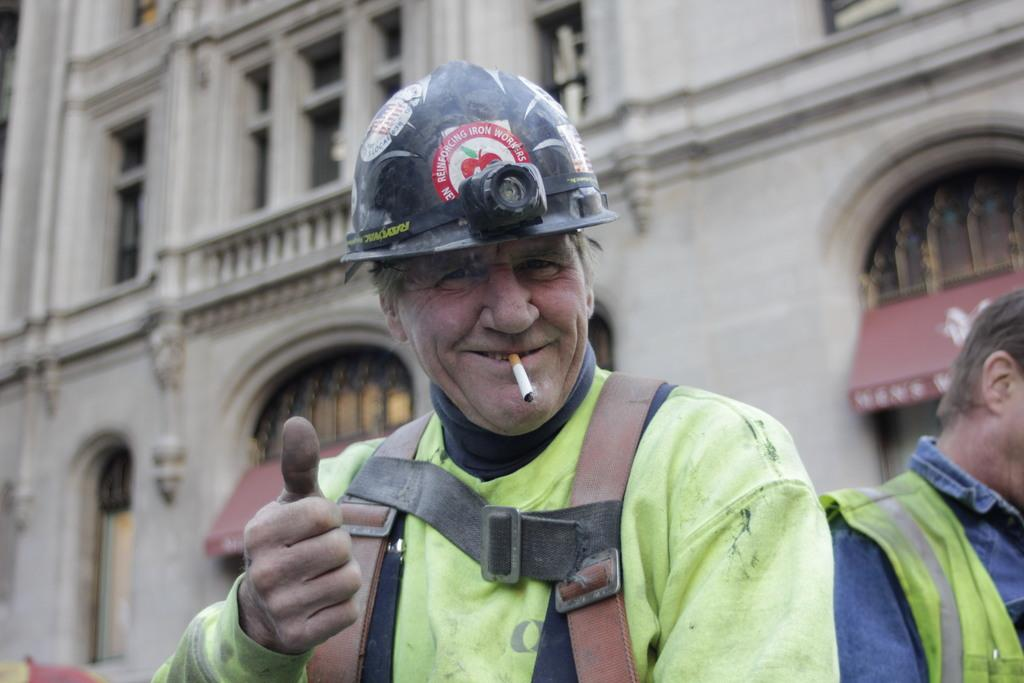helmet: (340, 58, 620, 435)
